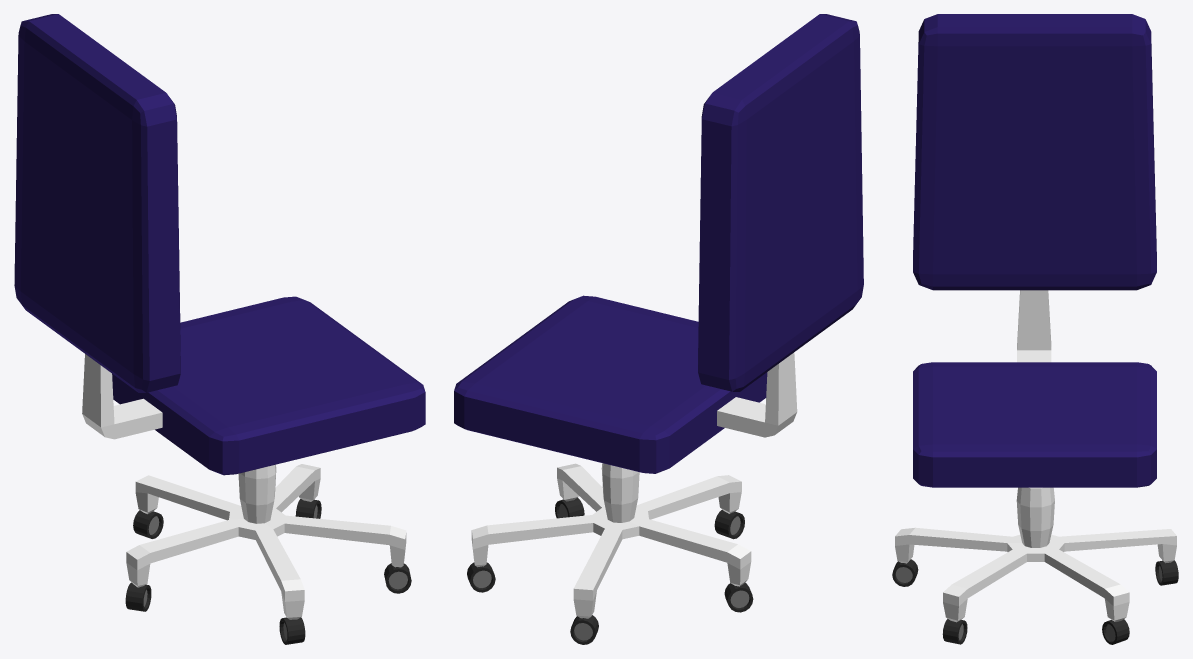
Rendered from Chair_23.fbx.
The picture shows the model from 3 angles, left to right: view 1: azimuth 30°, elevation 25°; view 2: azimuth 150°, elevation 25°; view 3: azimuth 270°, elevation 25°; orthographic projection. The views are drawn at different scales.
Visible parts, largest first — view 1: Chair_23; view 2: Chair_23; view 3: Chair_23.
Boxes of the visible parts, <box> form: Chair_23: <box>14,14,425,644</box>; Chair_23: <box>454,14,863,644</box>; Chair_23: <box>892,14,1178,644</box>.
Size of the model in its own units: 0.4495 by 0.8344 by 0.4258.
